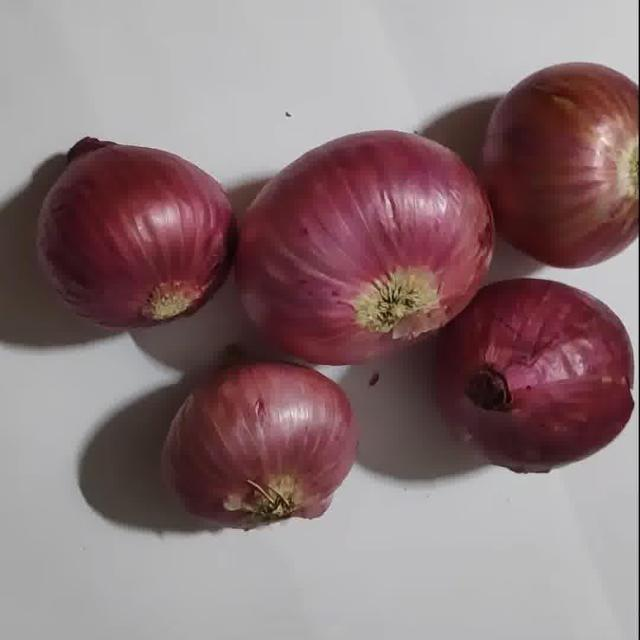Onion: (239, 131, 493, 363), (437, 279, 634, 472), (42, 138, 236, 331), (478, 63, 638, 267)
